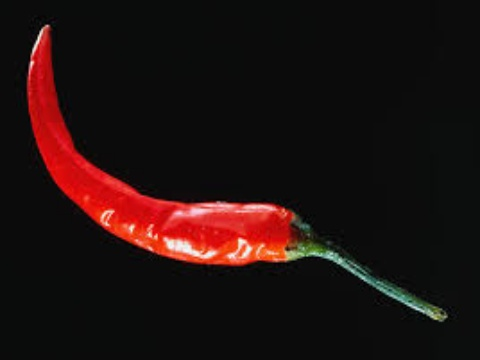Chilli: (19, 21, 449, 325)
